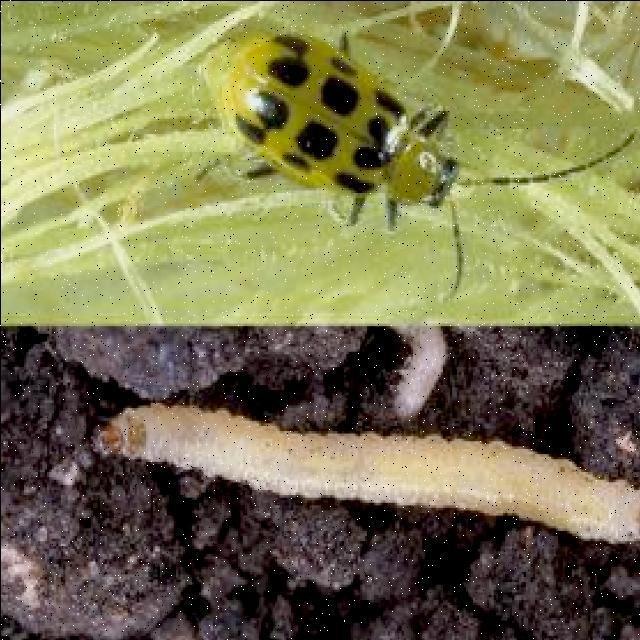gusano_verde: (196, 7, 474, 264)
